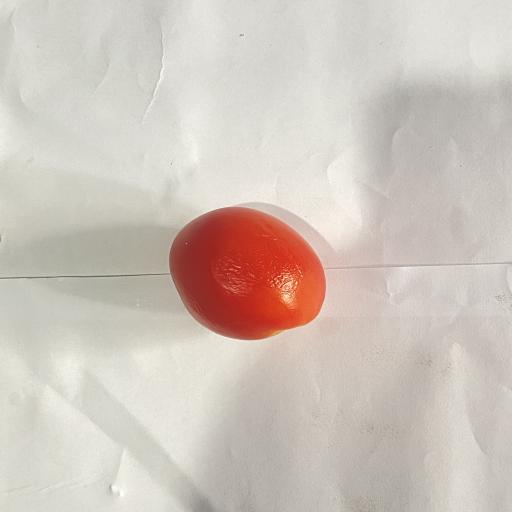spoiled: (169, 207, 326, 340)
